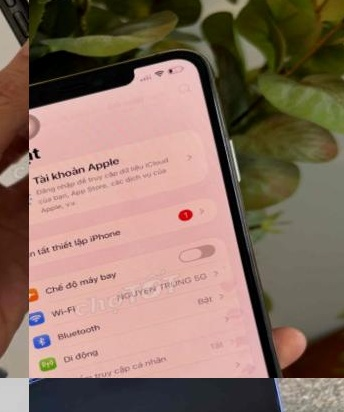scratch: (29, 378, 54, 402)
